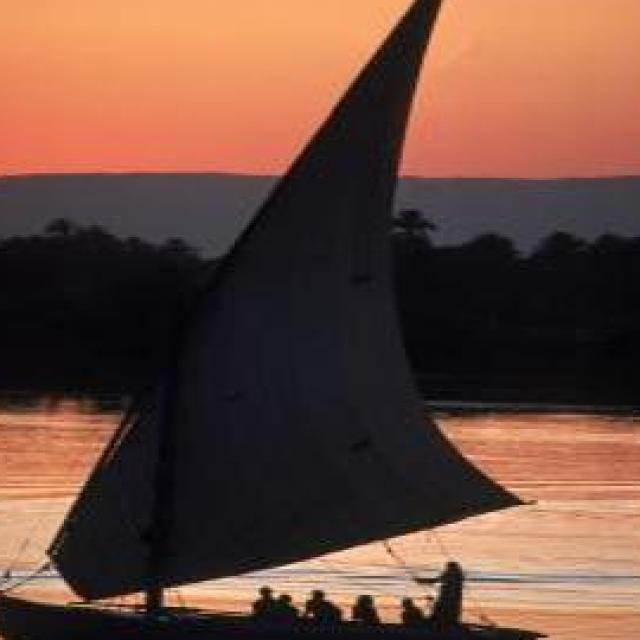sailboat: (0, 0, 550, 640)
